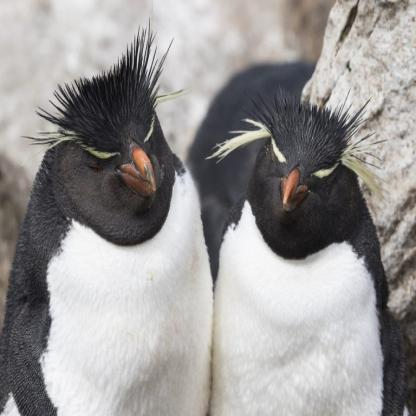Penguin: (0, 15, 218, 415), (206, 76, 416, 416)
